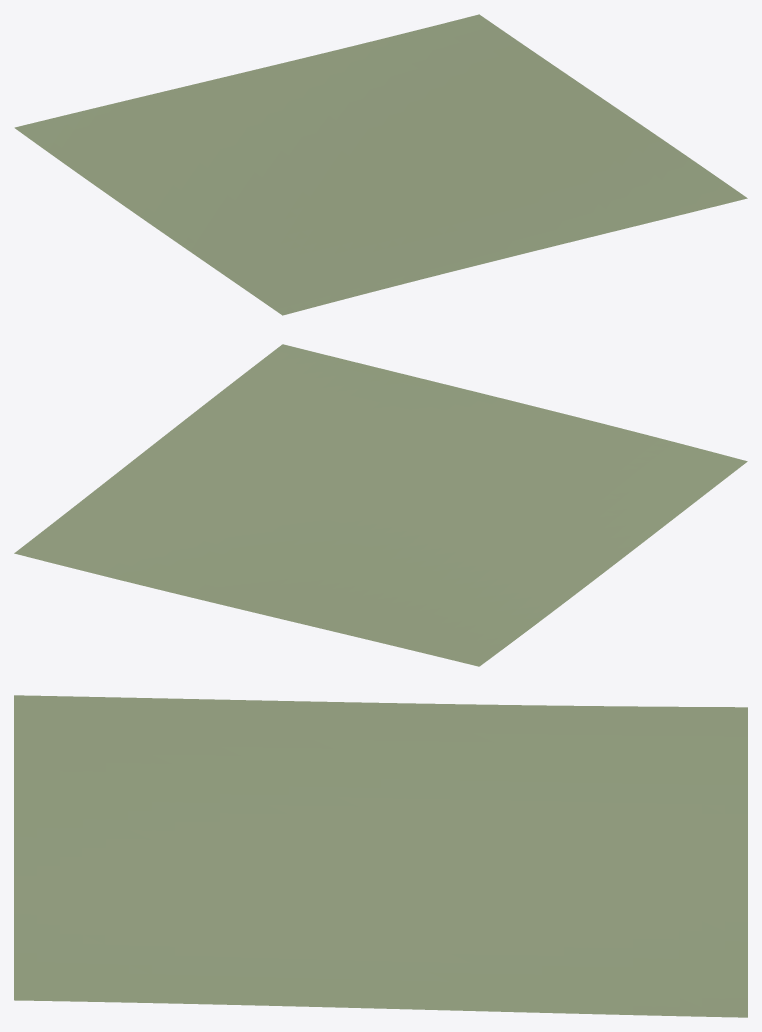
The model's file is expanse-6-18.glb.
3 renders of one model, top to bottom at view 1: azimuth 30°, elevation 25°; view 2: azimuth 150°, elevation 25°; view 3: azimuth 270°, elevation 25°, orthographic. The views are drawn at different scales.
Parts seen in each view (by area): view 1: expanse-6-18; view 2: expanse-6-18; view 3: expanse-6-18.
Boxes of the visible parts, x1,y1,x2,y2 form: expanse-6-18: (14, 14, 747, 315); expanse-6-18: (14, 344, 747, 666); expanse-6-18: (14, 695, 747, 1017).
Bounding box in the file's own units: 256 × 7.08 × 256.
